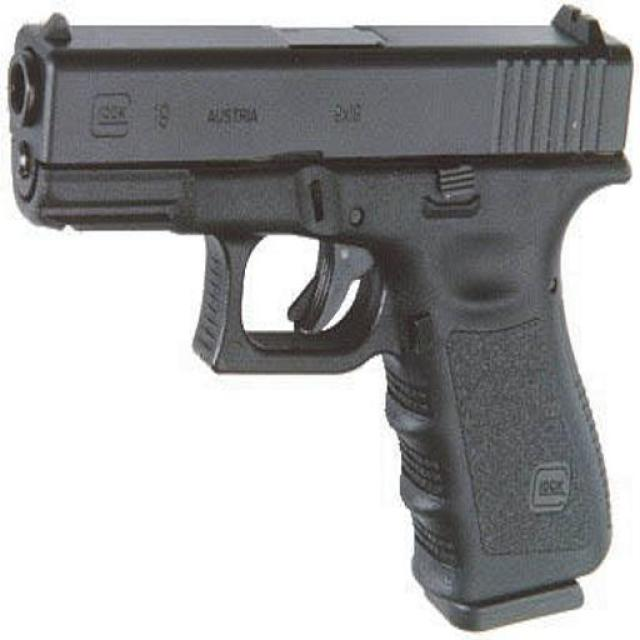pistol: (12, 4, 632, 626)
